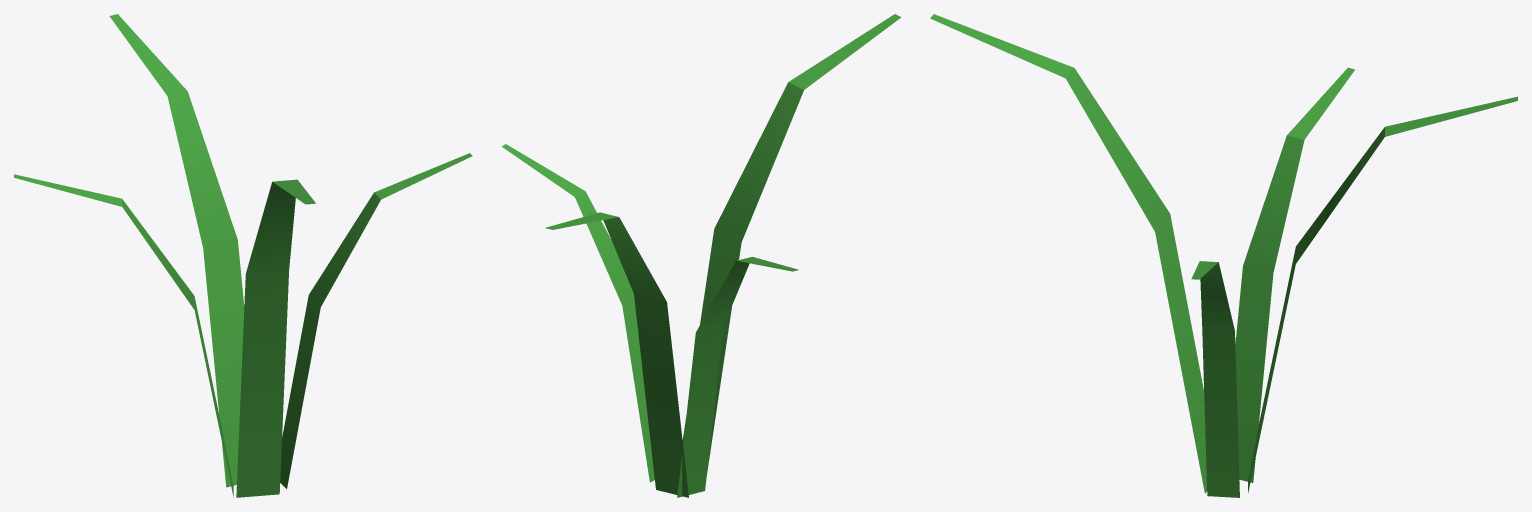
File: grass.fbx
The picture shows the model from 3 angles, left to right: view 1: azimuth 30°, elevation 25°; view 2: azimuth 150°, elevation 25°; view 3: azimuth 270°, elevation 25°; orthographic projection. The views are drawn at different scales.
Visible parts, largest first — view 1: grass; view 2: grass; view 3: grass.
Boxes of the visible parts, x1,y1,x2,y2 form: grass: (14,14,472,497); grass: (501,14,901,497); grass: (930,14,1517,497).
Bounding box in the file's own units: 1.51 × 1.55 × 1.93.
